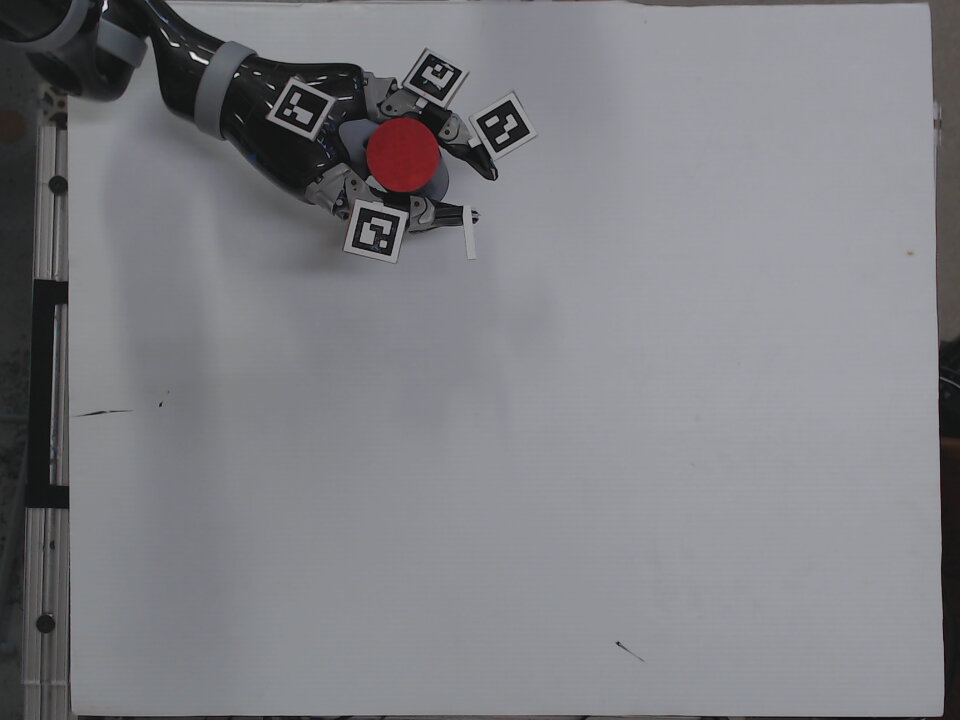cylinder: (363, 115, 453, 203)
